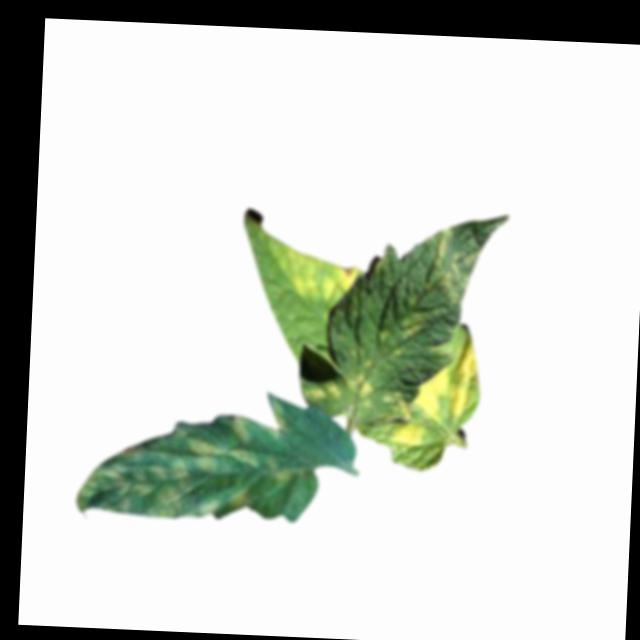Leaf_Mold: (74, 412, 298, 523), (388, 341, 486, 450), (264, 233, 365, 303), (425, 224, 482, 302), (304, 371, 374, 405)
